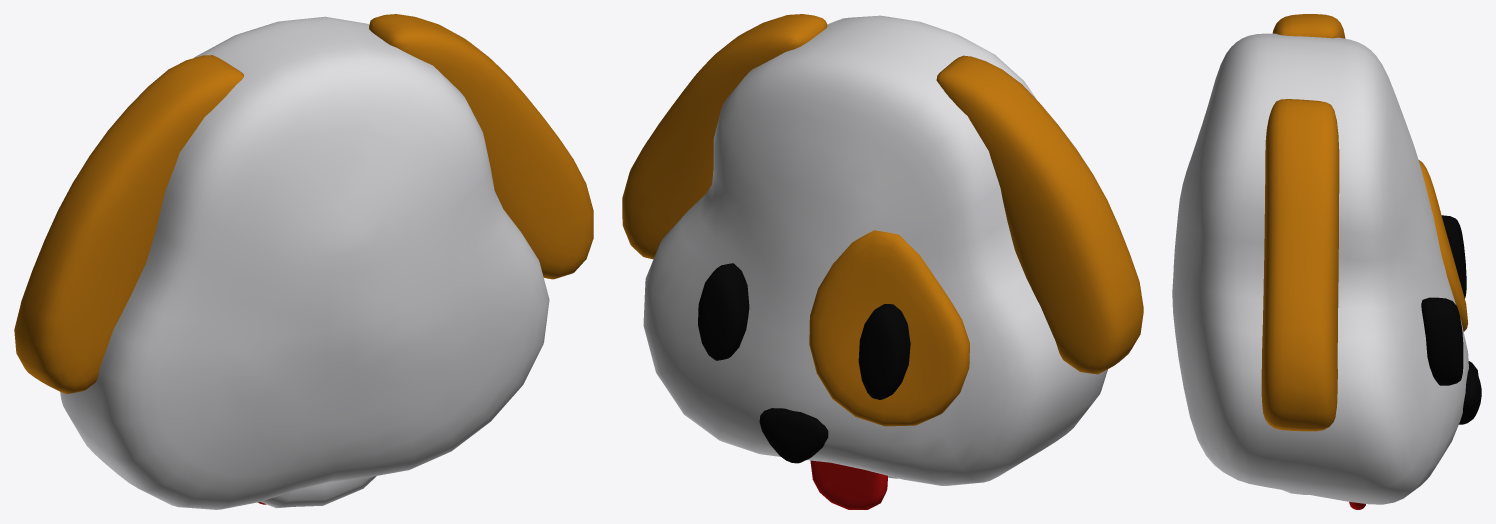
Rendered from dog FBX.FBX.
The picture shows the model from 3 angles, left to right: view 1: azimuth 30°, elevation 25°; view 2: azimuth 150°, elevation 25°; view 3: azimuth 270°, elevation 25°; orthographic projection. The views are drawn at different scales.
Parts seen in each view (by area): view 1: Dog2, Dog_1, Dog6; view 2: Dog2, Dog_1, Dog3, dog4, Dog5, Dog7; view 3: Dog2, Dog_1, dog4, Dog3, Dog7.
Boxes of the visible parts, box(x1,y1,x2,y2) form: Dog2: box(60, 16, 549, 509); Dog_1: box(14, 14, 593, 393); Dog6: box(260, 476, 376, 508); Dog2: box(643, 15, 1107, 485); Dog_1: box(622, 14, 1143, 374); Dog3: box(809, 230, 969, 426); dog4: box(698, 263, 910, 399); Dog5: box(810, 460, 887, 509); Dog7: box(759, 408, 828, 463); Dog2: box(1172, 33, 1468, 504); Dog_1: box(1261, 14, 1345, 431); dog4: box(1421, 215, 1466, 385); Dog3: box(1418, 160, 1468, 331); Dog7: box(1459, 361, 1481, 424).
Bounding box in the file's own units: 24.64 × 20.94 × 13.16.
